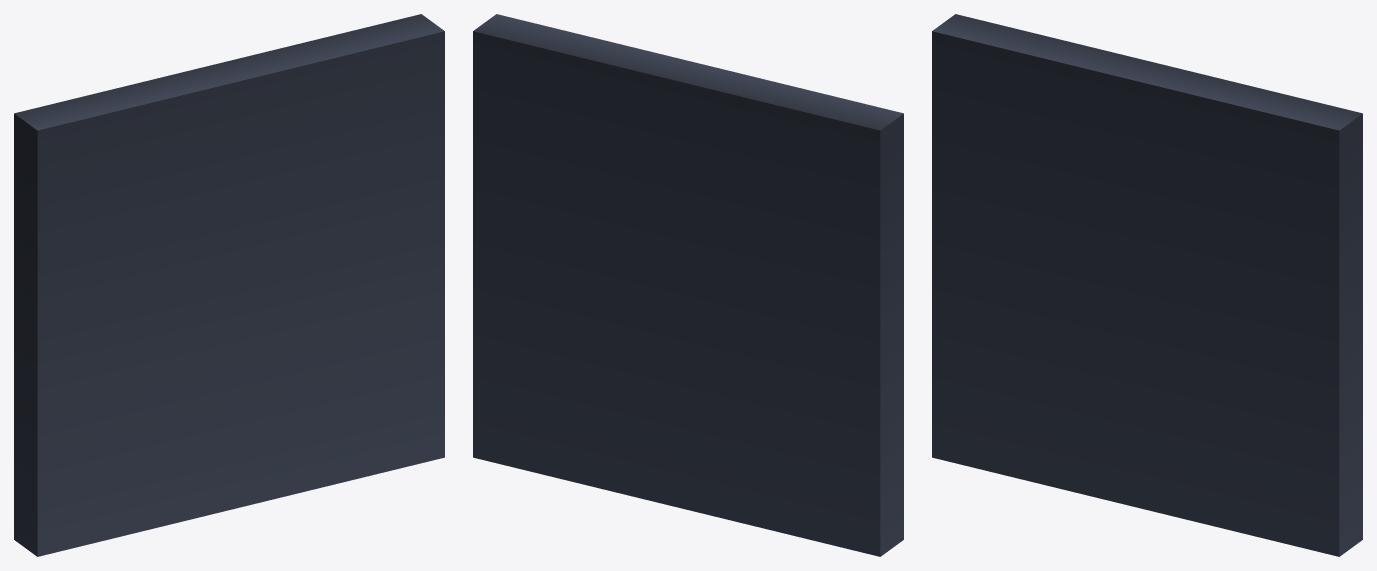
Rendered from KIT_Wall_Straight_4.glb.
3 views of the same model, side by side, from view 1: azimuth 30°, elevation 25°; view 2: azimuth 150°, elevation 25°; view 3: azimuth 330°, elevation 25° (orthographic).
Parts seen in each view (by area): view 1: KIT_Wall_Straight_4; view 2: KIT_Wall_Straight_4; view 3: KIT_Wall_Straight_4.
Part boxes in pixels (bbox=[...]): KIT_Wall_Straight_4: bbox=[14, 14, 444, 556]; KIT_Wall_Straight_4: bbox=[473, 14, 903, 556]; KIT_Wall_Straight_4: bbox=[932, 14, 1362, 556].
Bounding box in the file's own units: 4 × 4 × 0.4.
Materials: 1 (1 with a texture image).
